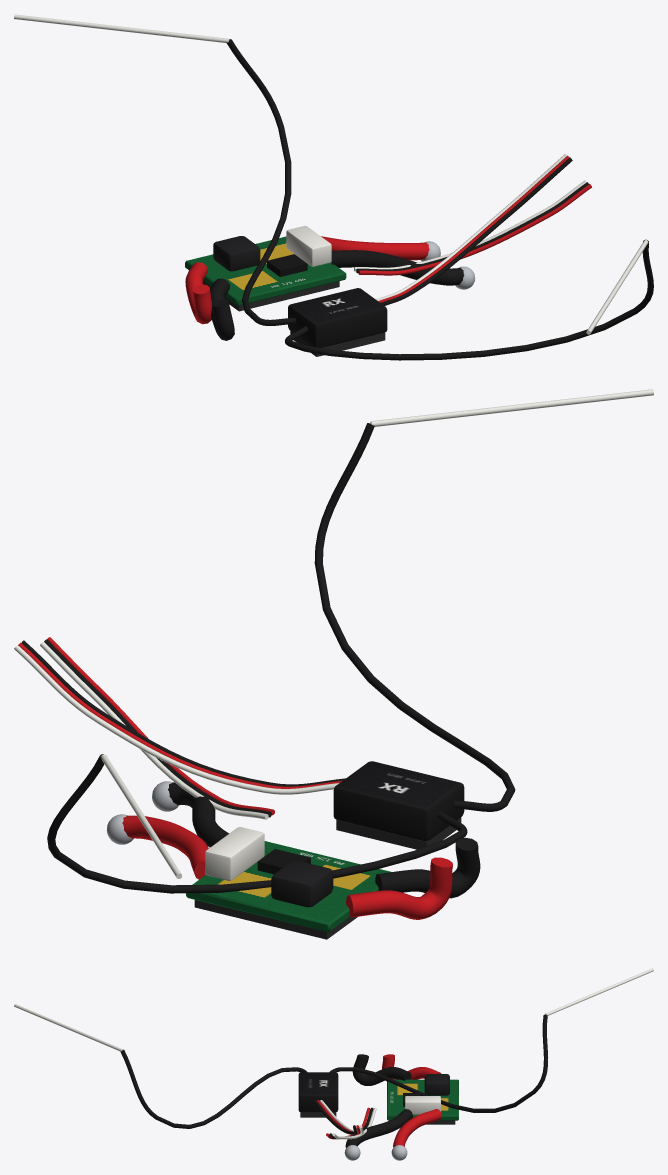
Rendered from F450_power.glb.
3 renders of one model, top to bottom at view 1: azimuth 30°, elevation 25°; view 2: azimuth 150°, elevation 25°; view 3: azimuth 270°, elevation 25°, orthographic. The views are drawn at different scales.
Parts seen in each view (by area): view 1: F450_power_plain, F450_power_labelled; view 2: F450_power_plain, F450_power_labelled; view 3: F450_power_plain, F450_power_labelled.
Part boxes in pixels (x1=…): F450_power_plain: x1=14, y1=14, x2=653, y2=360; F450_power_labelled: x1=185, y1=236, x2=387, y2=347; F450_power_plain: x1=14, y1=389, x2=653, y2=939; F450_power_labelled: x1=186, y1=761, x2=464, y2=932; F450_power_plain: x1=14, y1=968, x2=653, y2=1160; F450_power_labelled: x1=298, y1=1072, x2=458, y2=1120.
Bounding box in the file's own units: 0.0771 × 0.0357 × 0.1774.
12 materials, 2 textured.
